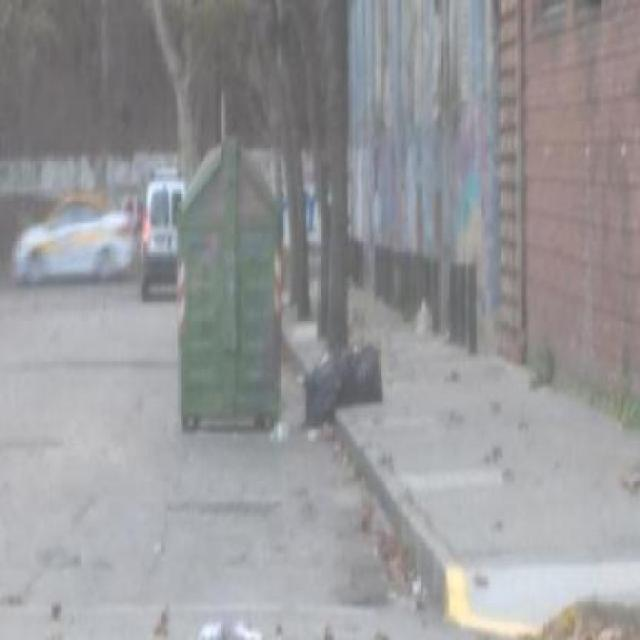garbage: (314, 429, 430, 596), (291, 340, 390, 439), (538, 597, 640, 638)
